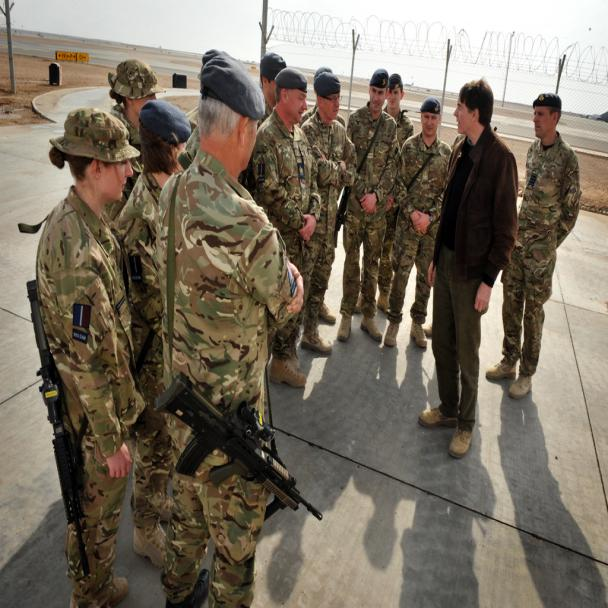Gun: (157, 363, 338, 536)
